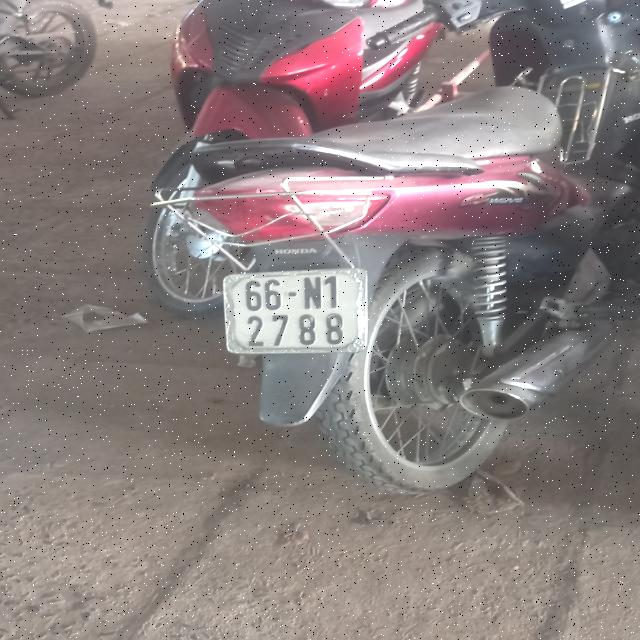1: (324, 275, 340, 307)
2: (246, 316, 266, 346)
6: (264, 278, 282, 311), (245, 280, 262, 310)
7: (272, 315, 289, 346)
8: (326, 313, 344, 346), (298, 314, 316, 345)
N: (303, 277, 323, 309)
